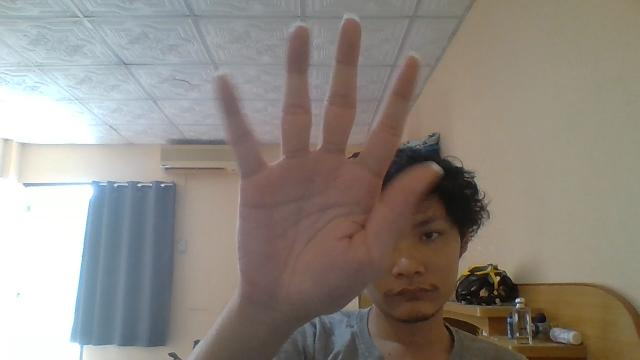Stop: (208, 13, 424, 322)
